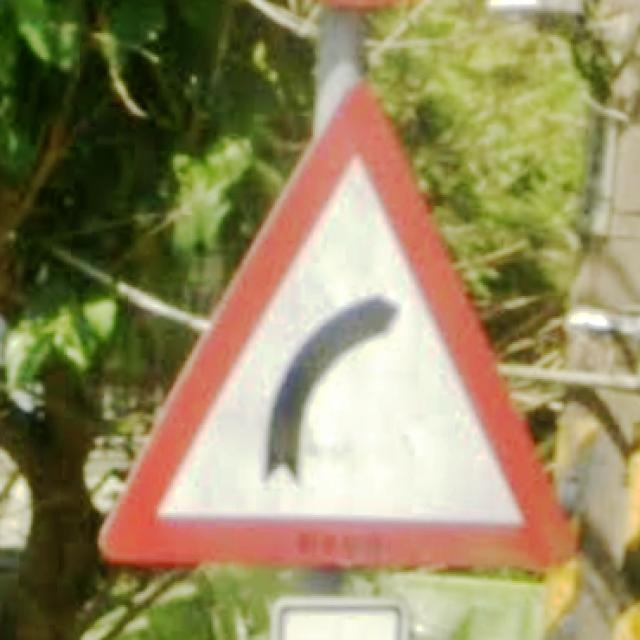rightbend: (99, 85, 576, 576)
